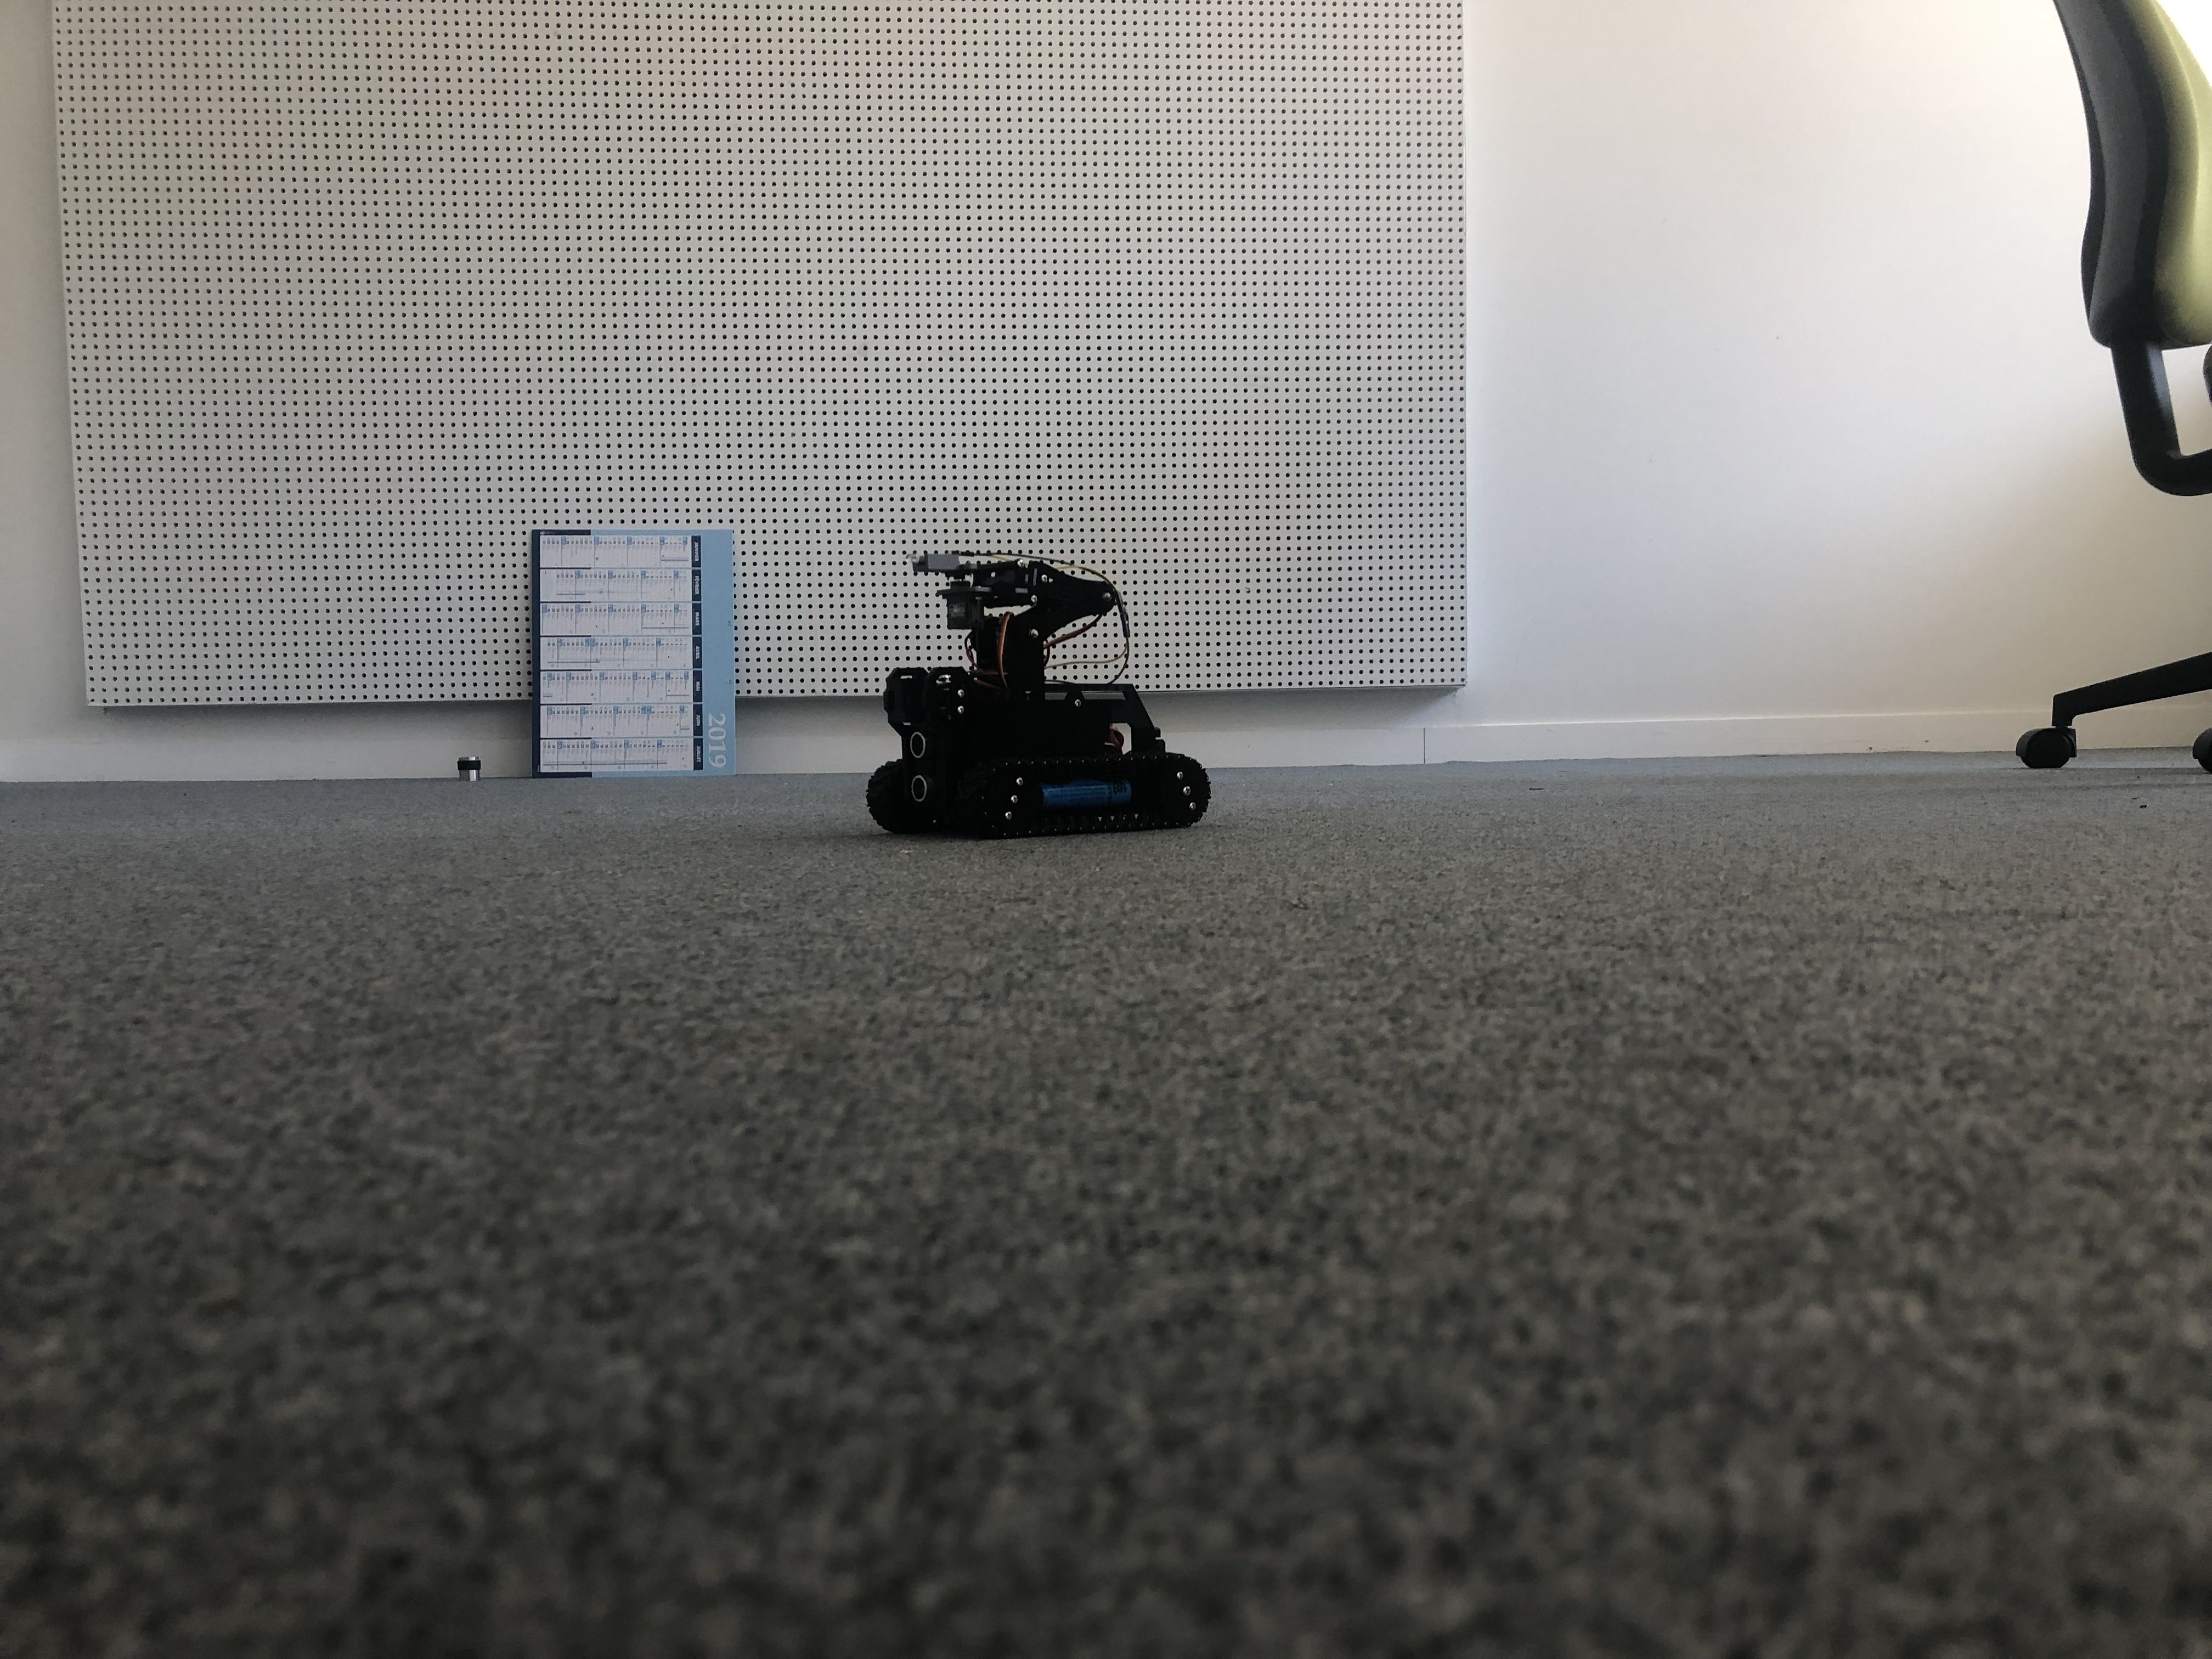rasptank: (860, 538, 1219, 843)
